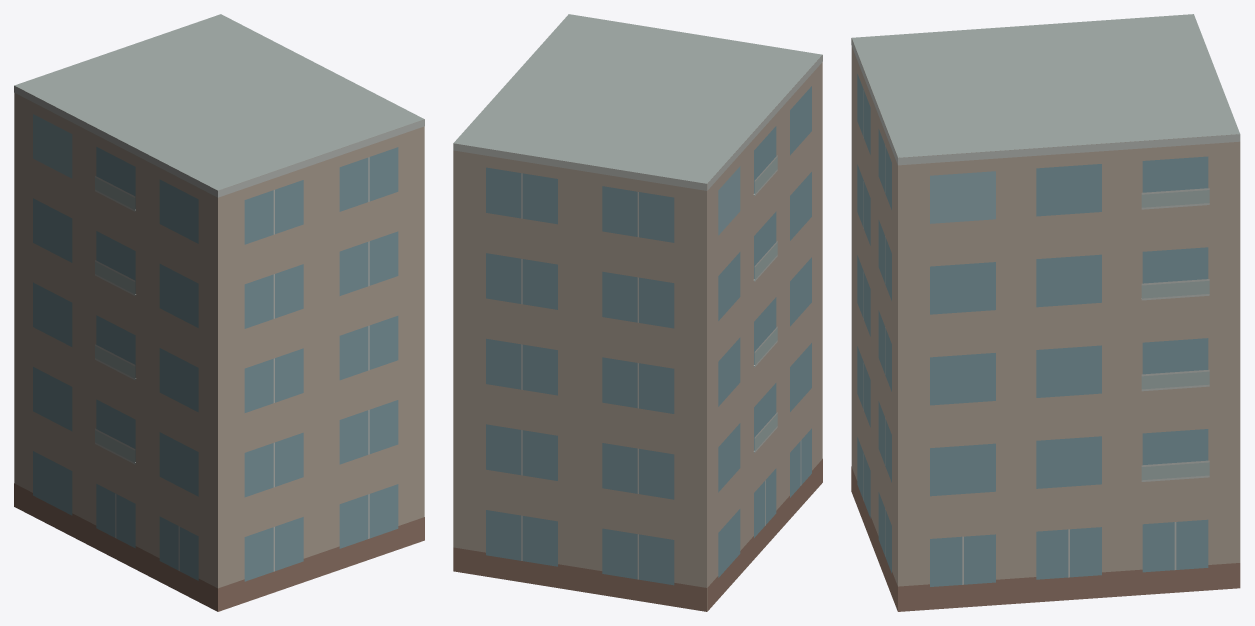
Rendered from survey-upis-33044058.glb.
3 views of the same model, side by side, from view 1: azimuth 30°, elevation 25°; view 2: azimuth 150°, elevation 25°; view 3: azimuth 270°, elevation 25° (orthographic). The views are drawn at different scales.
Visible parts, largest first — view 1: survey-upis-33044058.tmp; view 2: survey-upis-33044058.tmp; view 3: survey-upis-33044058.tmp.
Boxes of the visible parts, x1=… form: survey-upis-33044058.tmp: x1=14, y1=14, x2=424, y2=611; survey-upis-33044058.tmp: x1=453, y1=14, x2=822, y2=611; survey-upis-33044058.tmp: x1=851, y1=14, x2=1240, y2=611.
Bounding box in the file's own units: 9.93 × 14.6 × 11.34.
